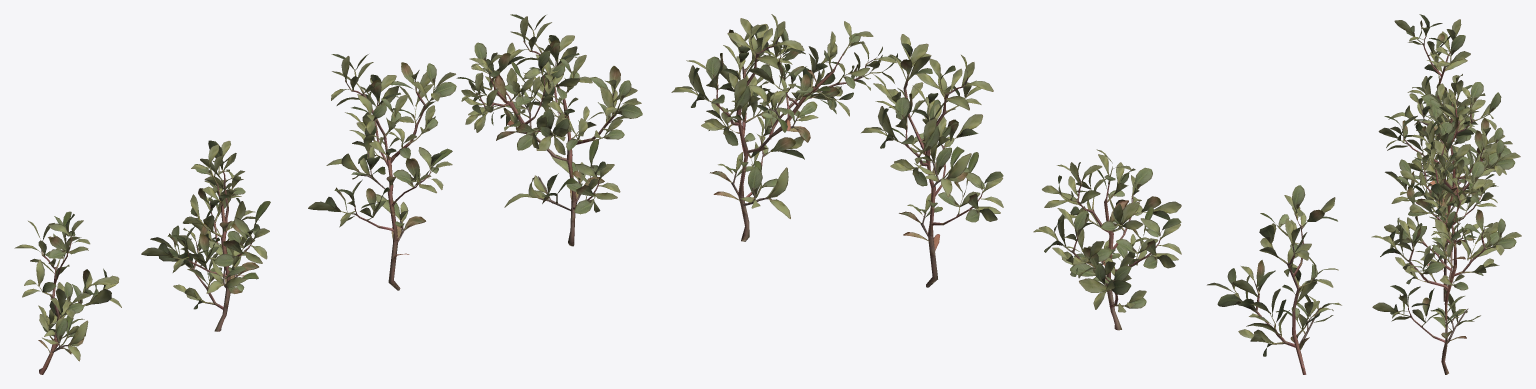
File: shrub_04.glb
The picture shows the model from 3 angles, left to right: view 1: azimuth 30°, elevation 25°; view 2: azimuth 150°, elevation 25°; view 3: azimuth 270°, elevation 25°; orthographic projection. The views are drawn at different scales.
Parts seen in each view (by area): view 1: shrub_04; view 2: shrub_04; view 3: shrub_04.
Boxes of the visible parts, <box> form: shrub_04: <box>14,14,642,374</box>; shrub_04: <box>671,14,1341,374</box>; shrub_04: <box>1371,14,1521,374</box>.
Size of the model in its own units: 0.5837 by 0.2192 by 0.146.
Materials: 1 (1 with a texture image).
